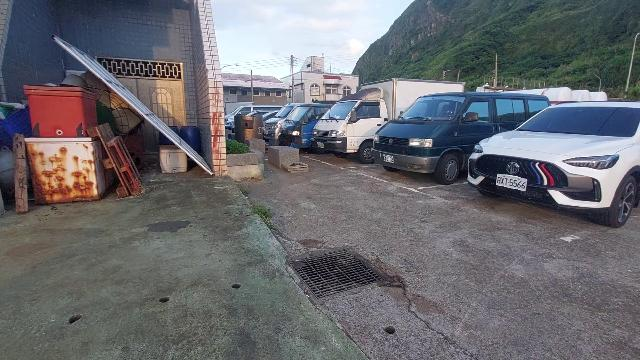pollute: (23, 70, 146, 207), (12, 132, 29, 212), (159, 143, 190, 175), (3, 103, 32, 136), (166, 126, 200, 153)
